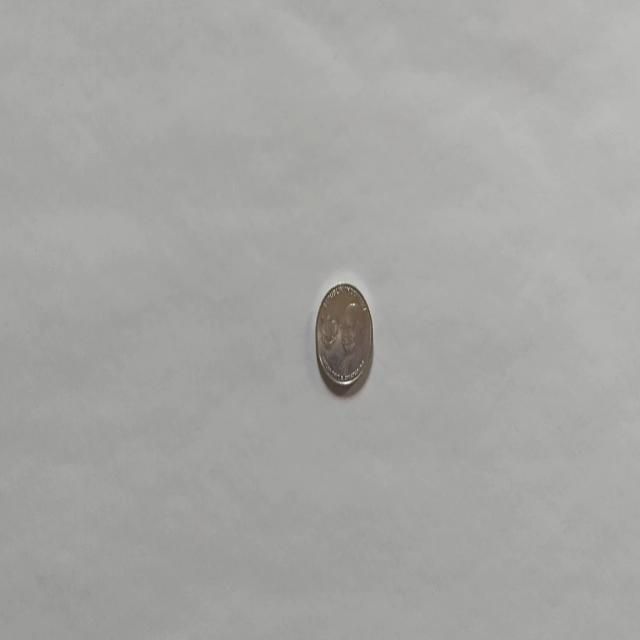lima ratus rupiah: (314, 280, 374, 390)
